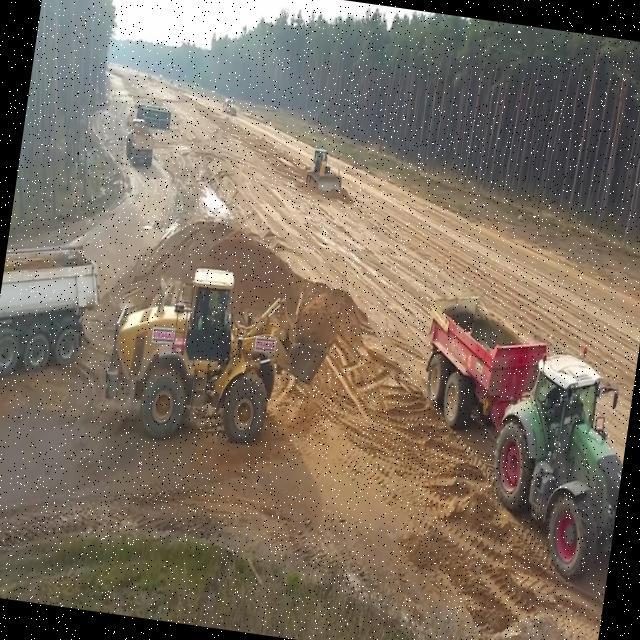Dump Truck: (392, 285, 640, 593), (0, 234, 106, 393), (120, 113, 160, 167)
Loader: (95, 251, 345, 459)
